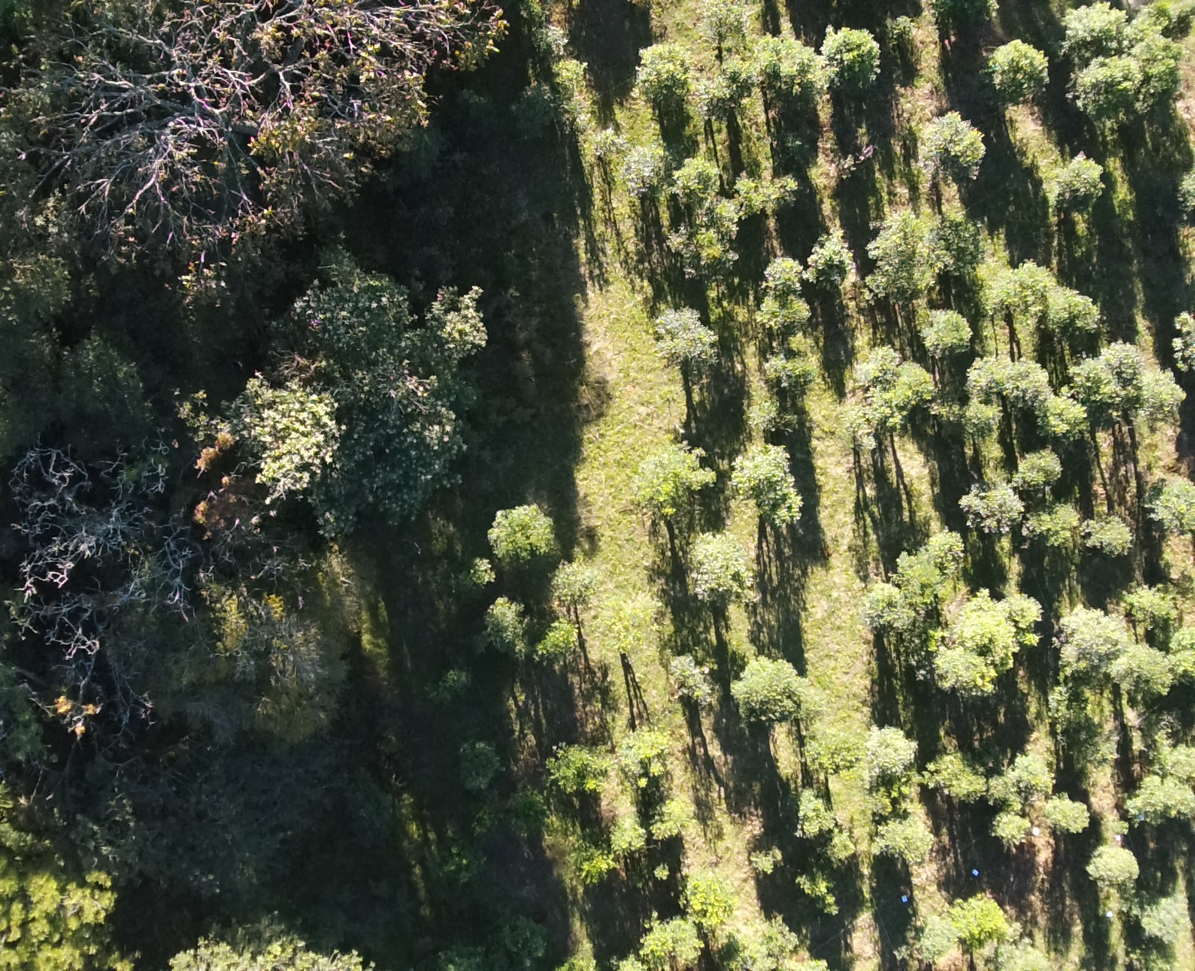erva: (621, 441, 711, 515), (737, 443, 809, 530), (739, 37, 821, 111), (811, 17, 883, 94), (729, 655, 792, 741), (682, 539, 756, 612), (946, 593, 1017, 668), (645, 311, 722, 378), (907, 114, 981, 182), (874, 804, 940, 878), (541, 728, 607, 798), (923, 641, 1003, 698), (1070, 55, 1136, 124), (471, 592, 536, 661), (1065, 353, 1119, 435), (631, 908, 702, 968), (627, 40, 686, 111), (598, 725, 683, 774), (485, 494, 549, 559), (1014, 494, 1085, 552), (1044, 155, 1111, 215), (1061, 598, 1120, 666), (1055, 4, 1126, 59), (1078, 843, 1143, 903), (949, 893, 1011, 955), (984, 266, 1046, 328), (982, 43, 1044, 105), (933, 752, 993, 816), (1114, 644, 1176, 703), (877, 368, 946, 421), (864, 725, 922, 788), (1126, 37, 1185, 98), (1126, 776, 1194, 828), (657, 651, 717, 709), (681, 873, 744, 928), (746, 287, 817, 335), (965, 480, 1022, 539), (1008, 438, 1064, 498), (592, 602, 649, 660), (1129, 370, 1184, 430), (805, 234, 857, 297), (696, 66, 758, 117), (536, 613, 586, 675), (1140, 478, 1194, 535), (831, 398, 888, 452), (1051, 285, 1103, 343), (1092, 335, 1151, 385), (764, 342, 824, 391), (447, 728, 501, 782), (1078, 503, 1132, 557), (917, 305, 972, 357), (887, 540, 930, 606), (618, 146, 673, 197), (656, 228, 718, 272), (844, 338, 896, 390), (548, 557, 603, 606), (895, 918, 950, 967), (697, 0, 746, 54), (1002, 354, 1052, 406), (1126, 574, 1177, 624), (795, 863, 847, 912), (803, 725, 854, 774), (865, 584, 911, 638), (1011, 752, 1061, 801), (424, 663, 479, 707), (450, 553, 506, 596), (1044, 790, 1090, 842), (1039, 400, 1087, 449), (674, 151, 722, 200), (1154, 723, 1194, 778), (1117, 7, 1169, 49), (924, 519, 965, 571), (984, 812, 1032, 856), (1140, 896, 1189, 939), (954, 395, 1002, 438), (748, 400, 797, 442), (968, 350, 1011, 397), (789, 793, 831, 841), (791, 671, 826, 728), (1003, 581, 1046, 627), (1161, 629, 1194, 675), (984, 765, 1022, 803), (822, 825, 863, 860), (713, 200, 750, 238), (609, 809, 637, 858), (656, 801, 693, 838), (746, 841, 778, 876), (761, 253, 794, 282)
